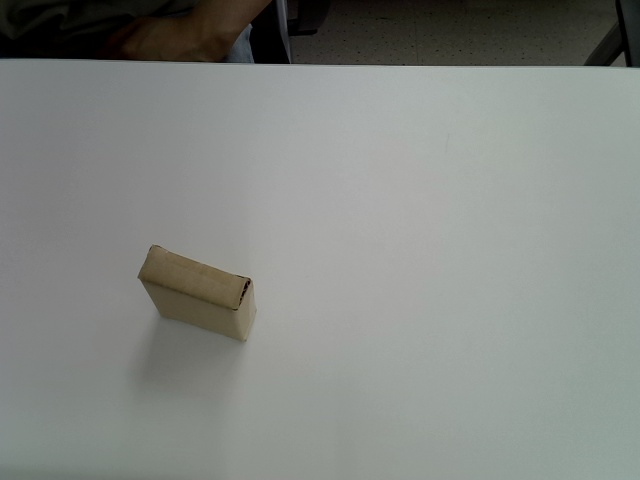normal: (138, 243, 257, 341)
